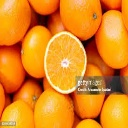orange: (59, 1, 102, 41)
